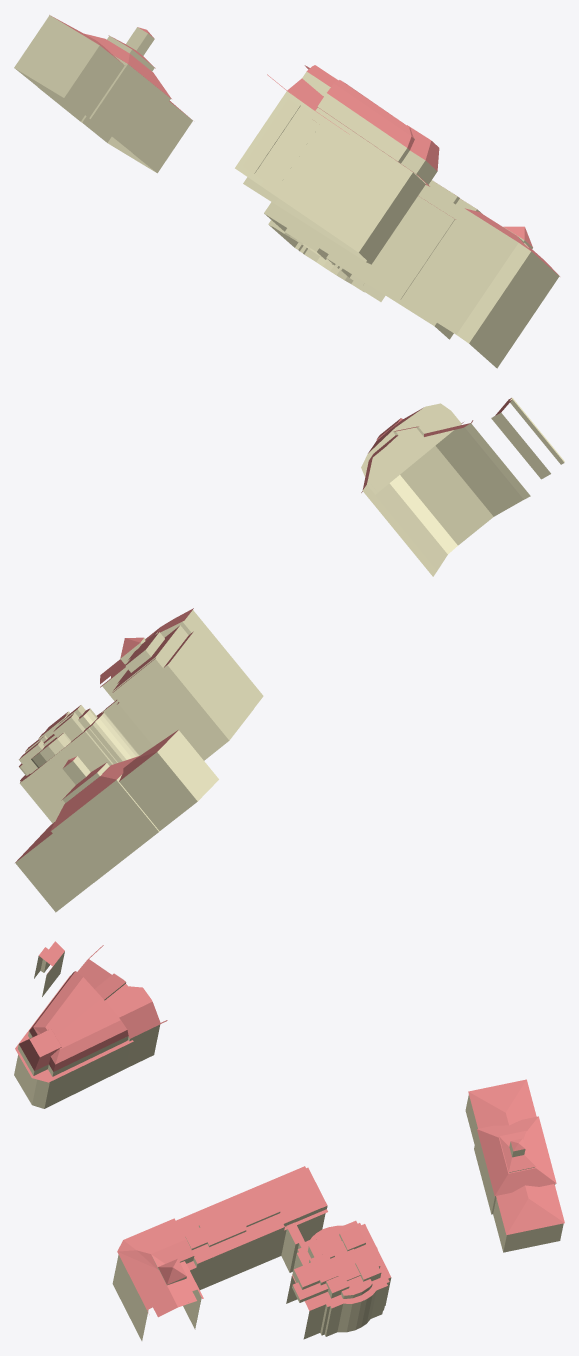
File: tile_060.glb
3 renders of one model, top to bottom at view 1: azimuth 30°, elevation 25°; view 2: azimuth 150°, elevation 25°; view 3: azimuth 270°, elevation 25°, orthographic. The views are drawn at different scales.
Visible parts, largest first — view 1: Batched_Building_ID_554477BB-5DE8-4D28-9285-06BA86B2E117; view 2: Batched_Building_ID_554477BB-5DE8-4D28-9285-06BA86B2E117; view 3: Batched_Building_ID_554477BB-5DE8-4D28-9285-06BA86B2E117.
Boxes of the visible parts, bbox=[...] form: Batched_Building_ID_554477BB-5DE8-4D28-9285-06BA86B2E117: bbox=[14, 15, 559, 368]; Batched_Building_ID_554477BB-5DE8-4D28-9285-06BA86B2E117: bbox=[15, 397, 564, 912]; Batched_Building_ID_554477BB-5DE8-4D28-9285-06BA86B2E117: bbox=[14, 941, 564, 1340].
Bounding box in the file's own units: 101 × 94.49 × 156.
